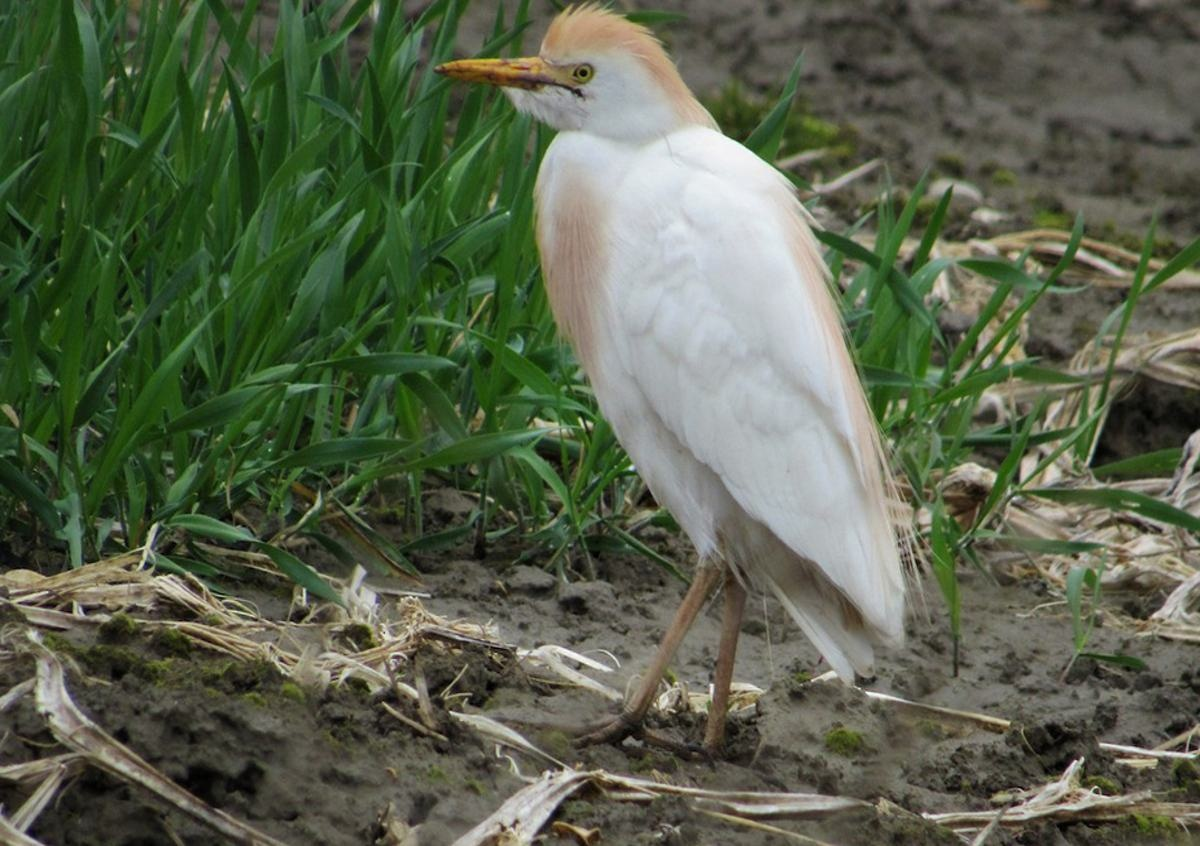egret: (431, 17, 928, 786)
